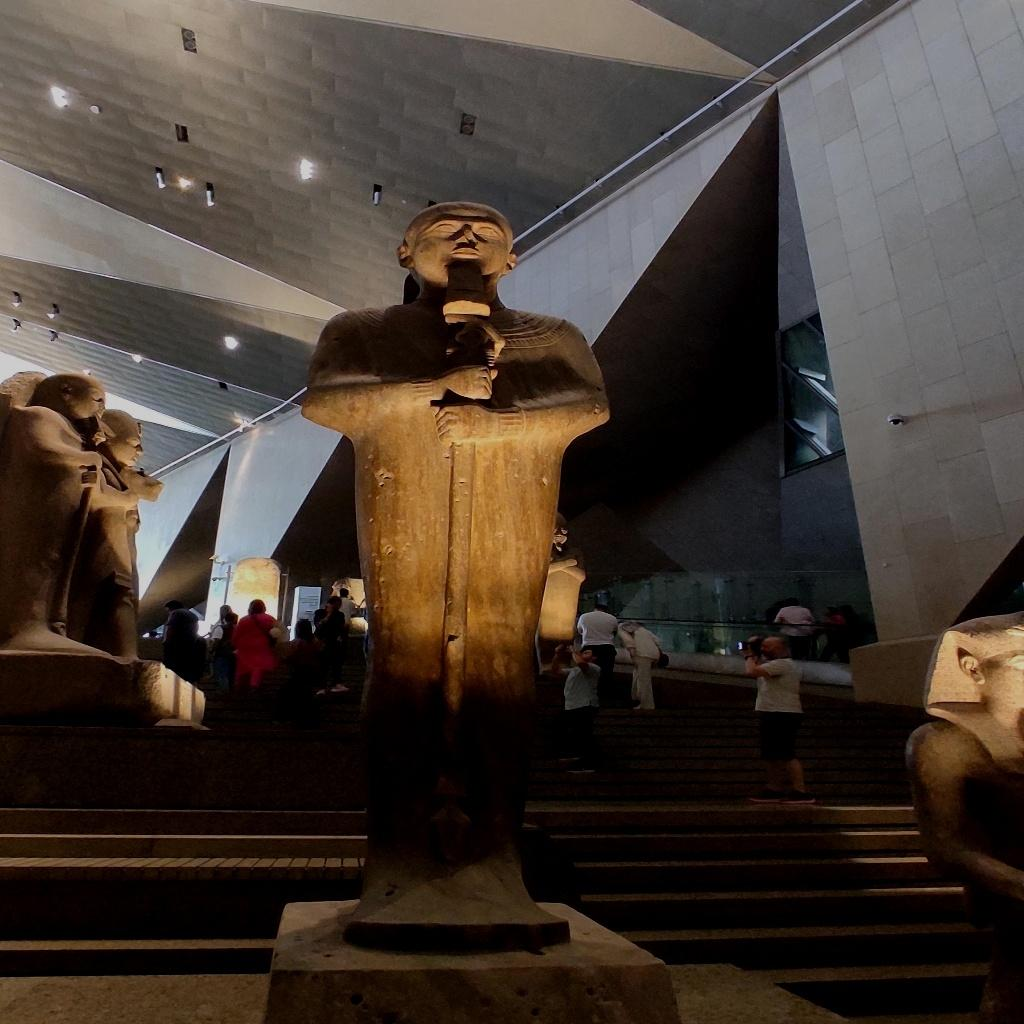Colossal Statue of God Ptah: (294, 194, 618, 956)
